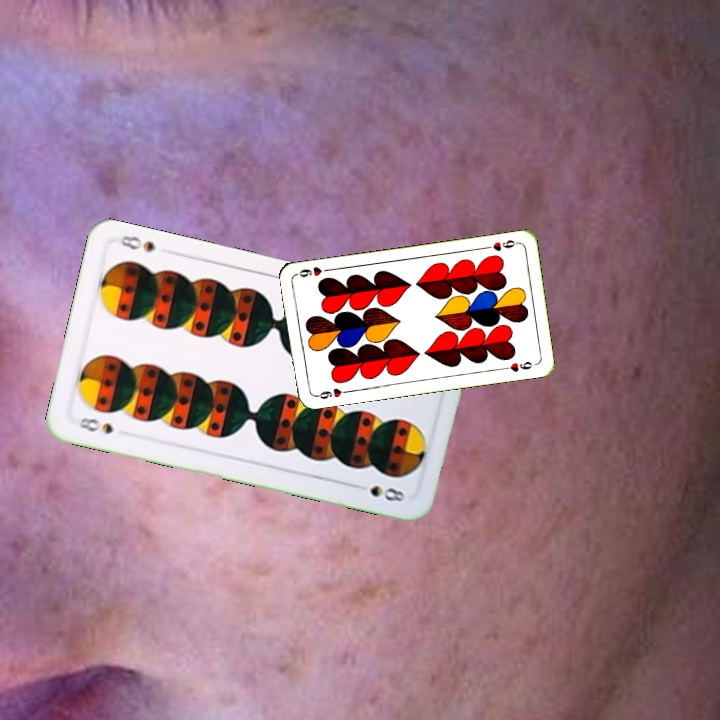H9: (481, 236, 521, 254), (311, 384, 351, 402)
S8: (69, 413, 115, 437)
